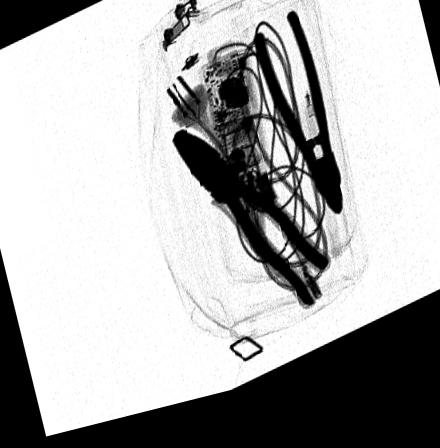Pliers: (166, 133, 330, 325), (248, 22, 345, 238)
